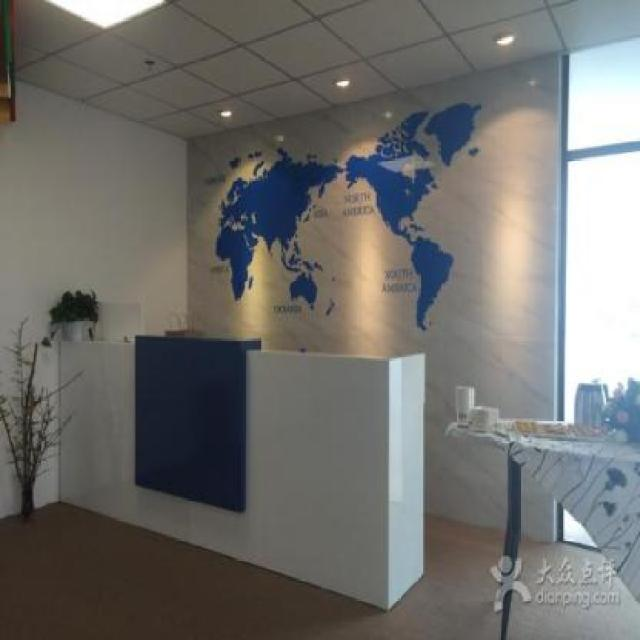frontdesk: (34, 332, 446, 620)
